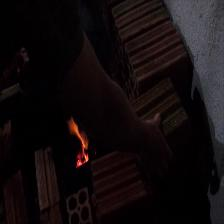fire: (60, 113, 100, 171)
